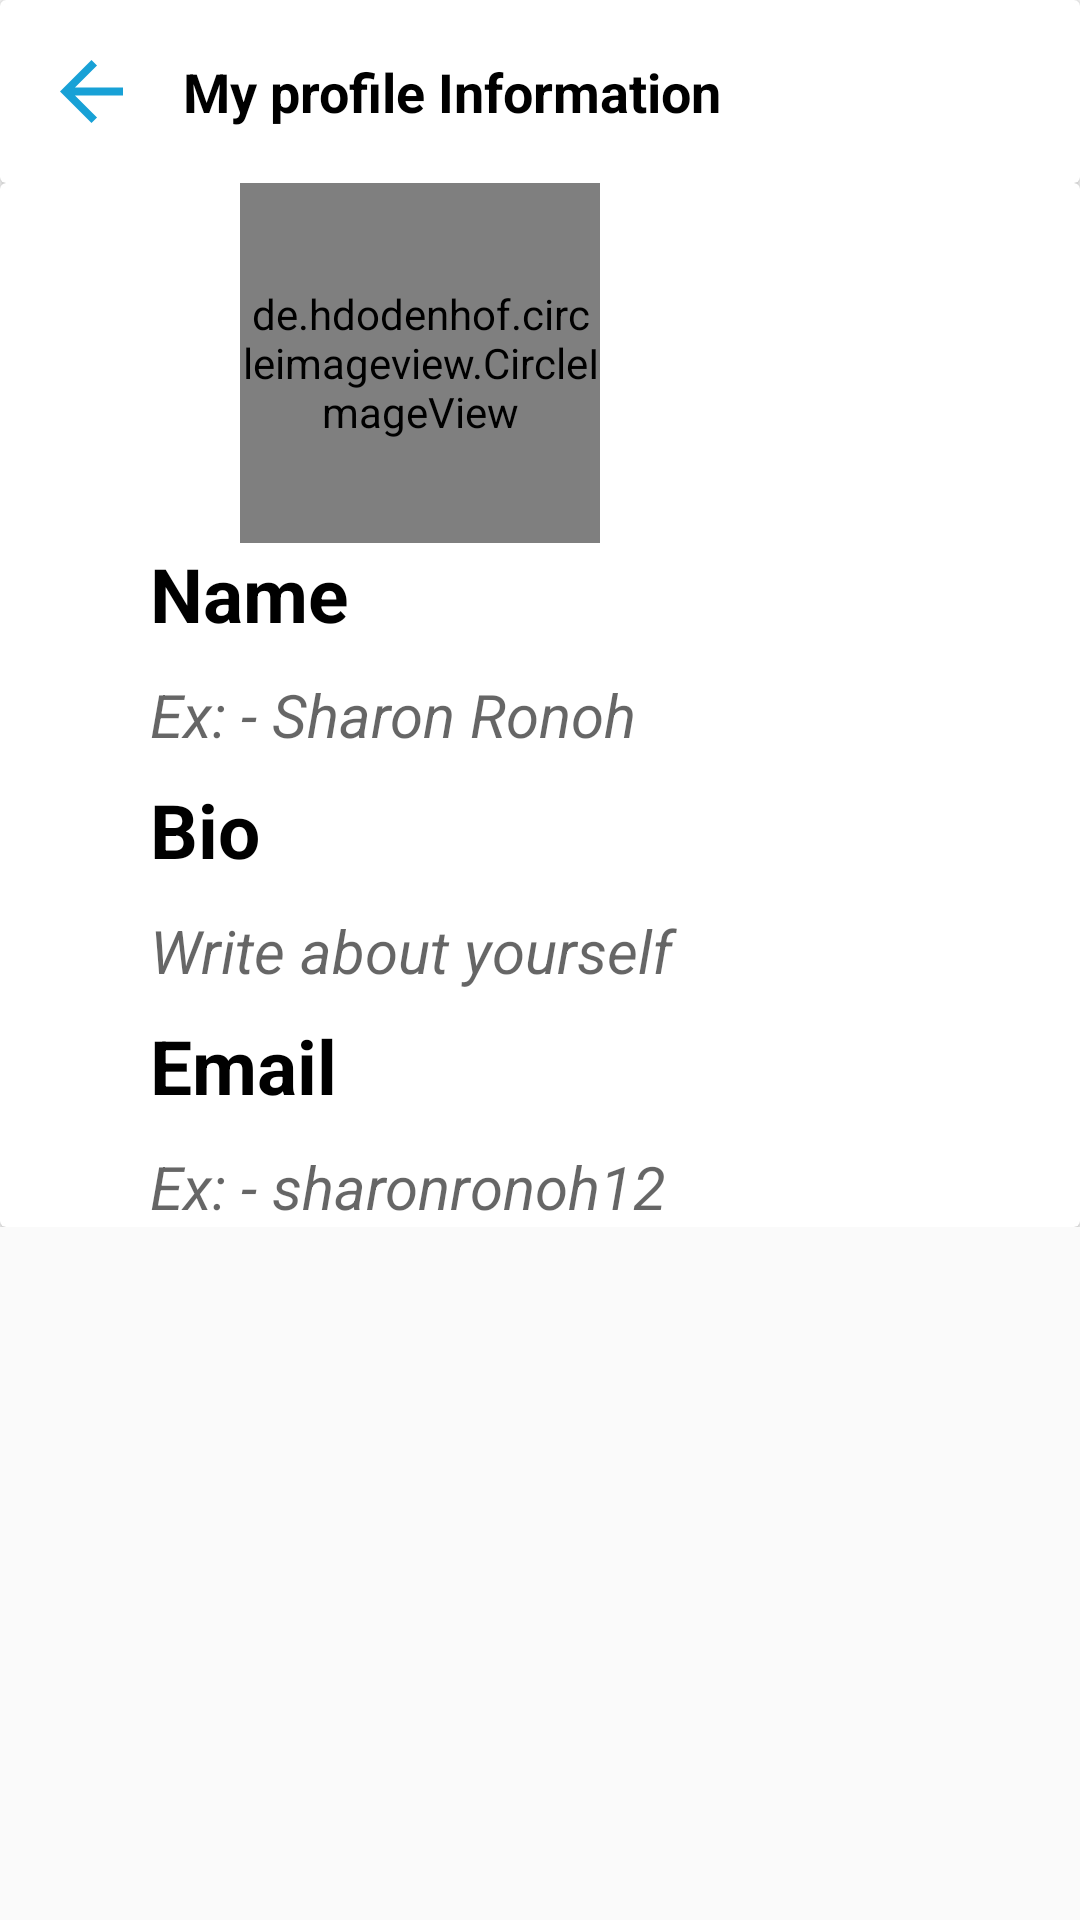

Icons on this 1080 × 1920 Android screen, each with its box as (x1, y1, x2, y2):
back arrow: (60, 60, 123, 123)
